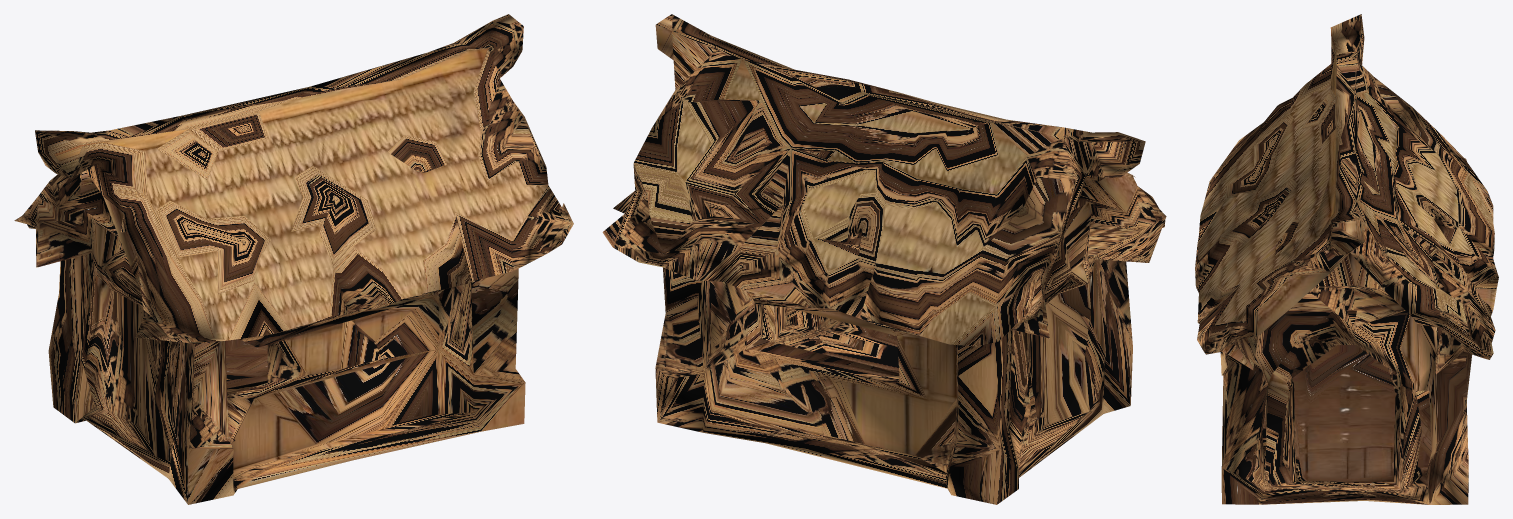
The model's file is meshy_shed_thatch_small_lod1.glb.
3 renders of one model, left to right at view 1: azimuth 30°, elevation 25°; view 2: azimuth 150°, elevation 25°; view 3: azimuth 270°, elevation 25°, orthographic. The views are drawn at different scales.
Bounding box in the file's own units: 4.65 × 3.18 × 2.84.
Materials: 1 (1 with a texture image).
